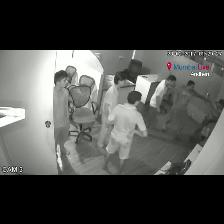person: (103, 91, 147, 174), (163, 81, 210, 140), (98, 72, 127, 153), (54, 71, 72, 155), (147, 75, 176, 127)
